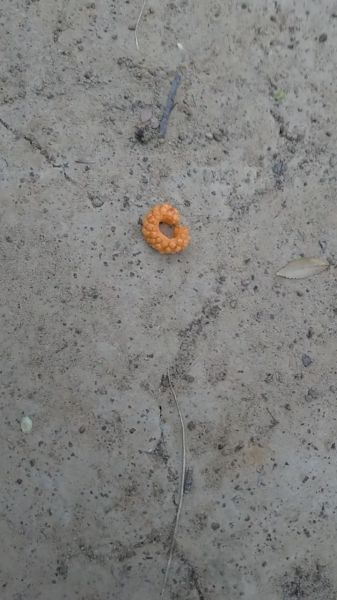eggs: (137, 192, 199, 271)
